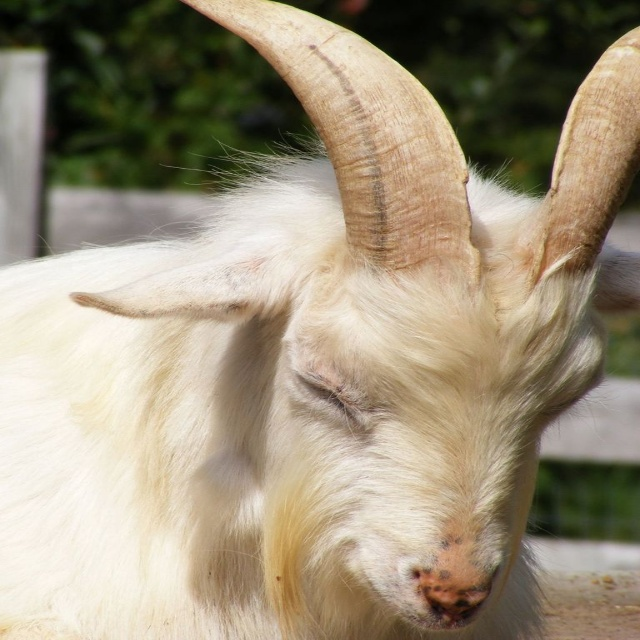Goat: (9, 0, 631, 640)
